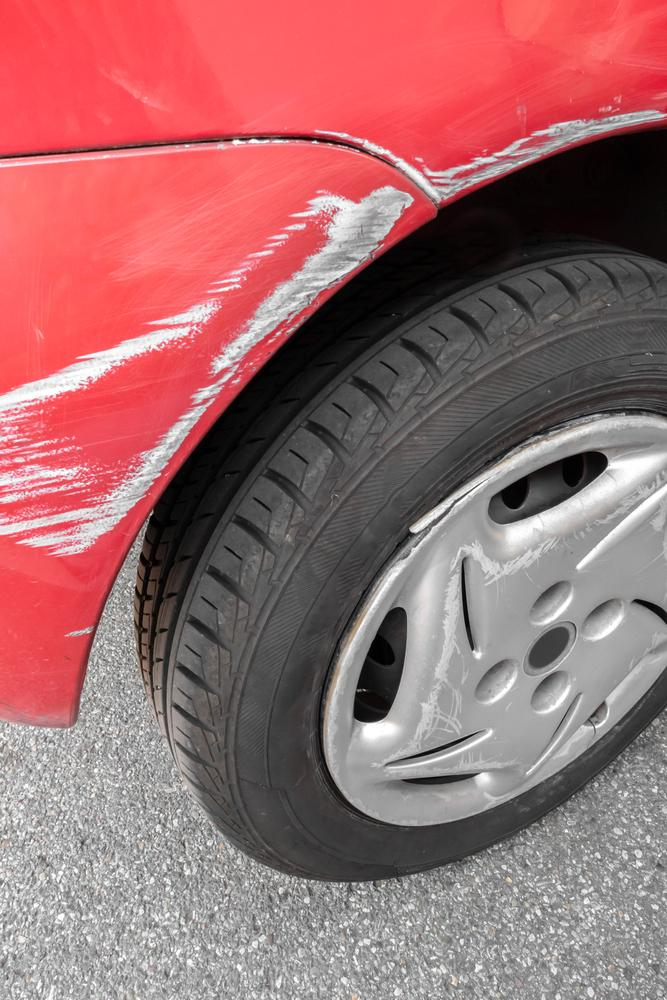scratch: (0, 164, 416, 558), (363, 468, 667, 780), (307, 101, 667, 207)
